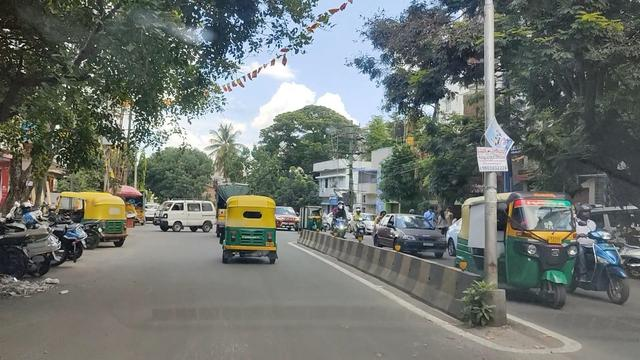LMV: (59, 191, 134, 253), (230, 199, 269, 252), (163, 202, 213, 233)
